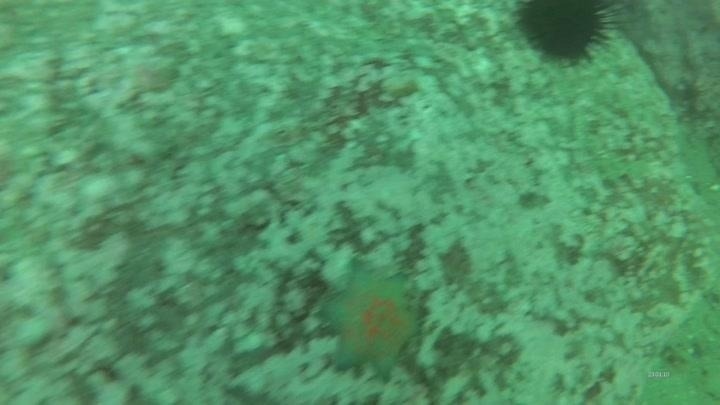echinus: (511, 1, 621, 67)
starfish: (314, 259, 423, 384)
